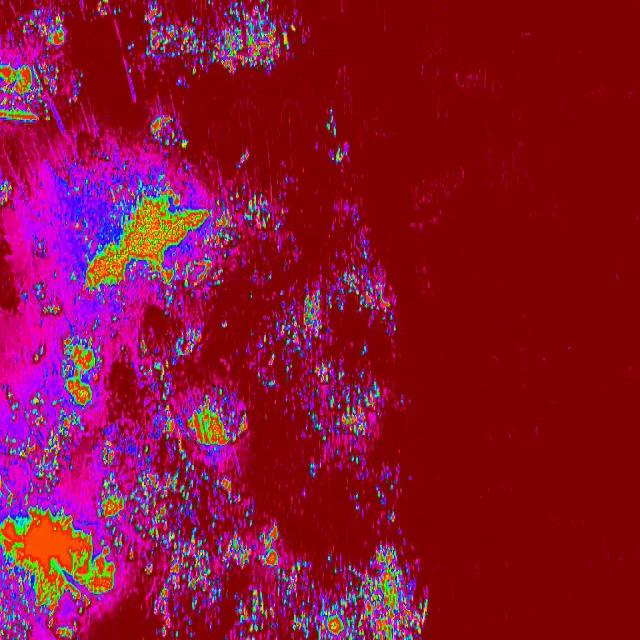fire: (256, 274, 404, 470), (128, 470, 294, 640), (73, 183, 285, 297), (0, 481, 123, 640), (142, 0, 312, 92), (294, 542, 432, 640), (0, 388, 85, 478), (162, 387, 259, 461), (130, 331, 201, 400), (55, 327, 114, 408), (0, 51, 60, 128), (92, 439, 131, 525), (15, 7, 70, 48), (373, 478, 405, 528), (147, 114, 190, 150), (27, 344, 51, 368), (328, 144, 352, 168), (91, 0, 122, 18), (38, 300, 62, 322), (322, 108, 339, 138), (235, 148, 253, 170), (0, 178, 13, 207)
